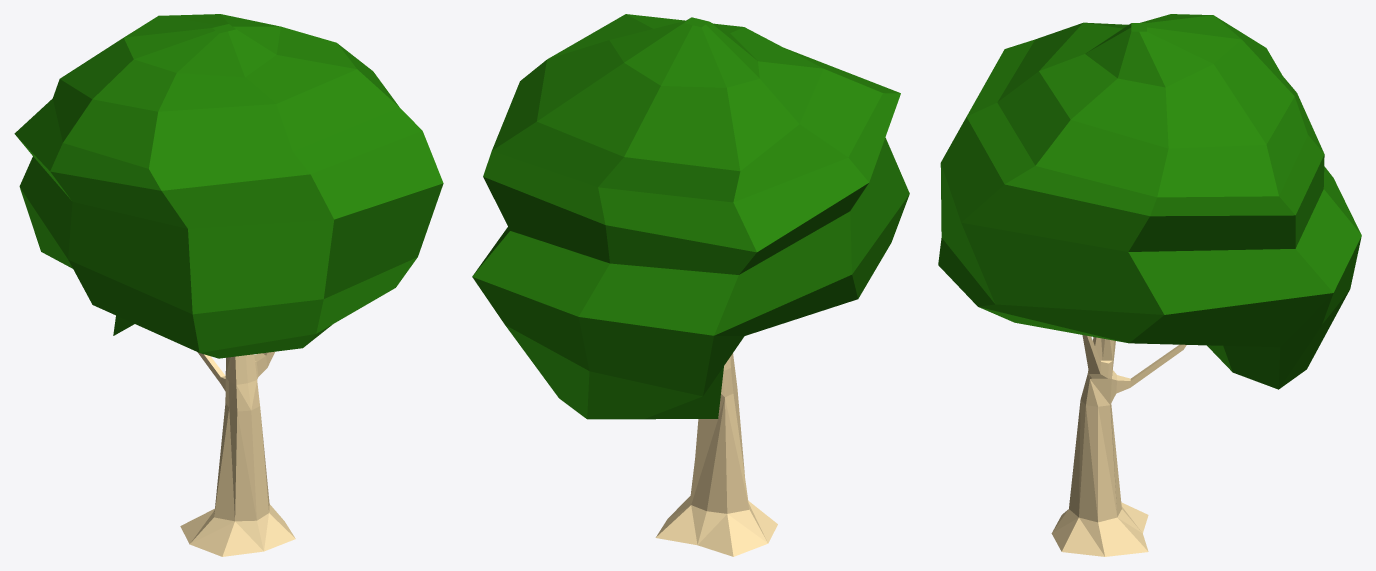
The model's file is Tree 5.FBX.
3 views of the same model, side by side, from view 1: azimuth 30°, elevation 25°; view 2: azimuth 150°, elevation 25°; view 3: azimuth 270°, elevation 25° (orthographic). The views are drawn at different scales.
Visible parts, largest first — view 1: Feuilles 5, Tronc 5; view 2: Feuilles 5, Tronc 5; view 3: Feuilles 5, Tronc 5.
Boxes of the visible parts, x1=… form: Feuilles 5: x1=14, y1=14, x2=443, y2=358; Tronc 5: x1=180, y1=351, x2=295, y2=556; Feuilles 5: x1=472, y1=14, x2=909, y2=419; Tronc 5: x1=655, y1=353, x2=777, y2=556; Feuilles 5: x1=938, y1=14, x2=1361, y2=389; Tronc 5: x1=1051, y1=335, x2=1186, y2=556.
Bounding box in the file's own units: 182 × 258 × 195.
